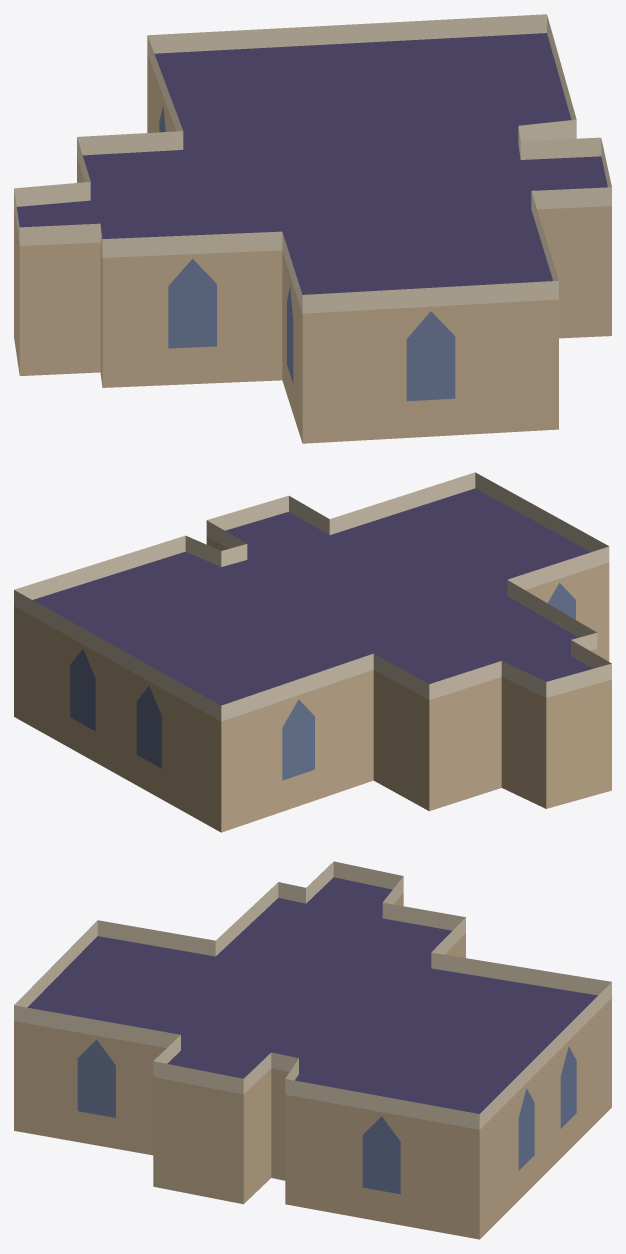
Rendered from b-083-day.glb.
3 views of the same model, one above another, from view 1: azimuth 30°, elevation 25°; view 2: azimuth 150°, elevation 25°; view 3: azimuth 270°, elevation 25° (orthographic). The views are drawn at different scales.
Visible parts, largest first — view 1: campus/b-083-day-0; view 2: campus/b-083-day-0; view 3: campus/b-083-day-0.
Boxes of the visible parts, x1,y1,x2,y2 form: campus/b-083-day-0: [14, 14, 611, 443]; campus/b-083-day-0: [14, 472, 611, 832]; campus/b-083-day-0: [14, 861, 611, 1239].
Size of the model in its own units: 18.78 by 4.35 by 18.78.
